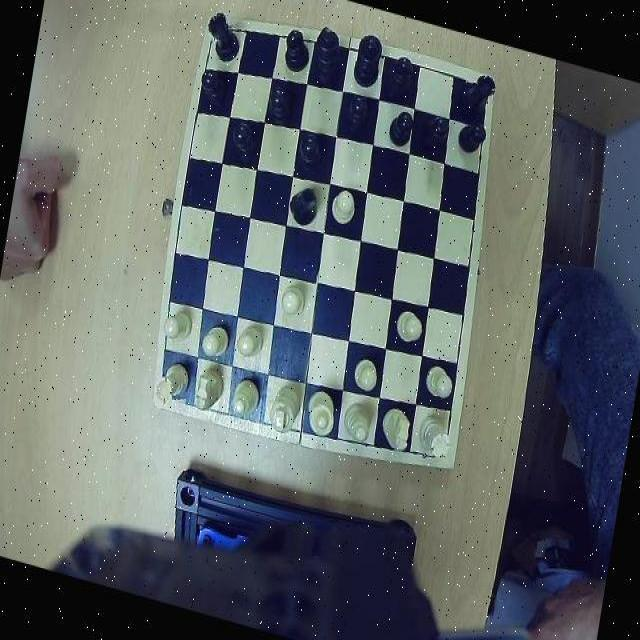chess-table-corners: (153, 378, 188, 416), (421, 432, 456, 469), (462, 73, 494, 109), (206, 10, 235, 46)
